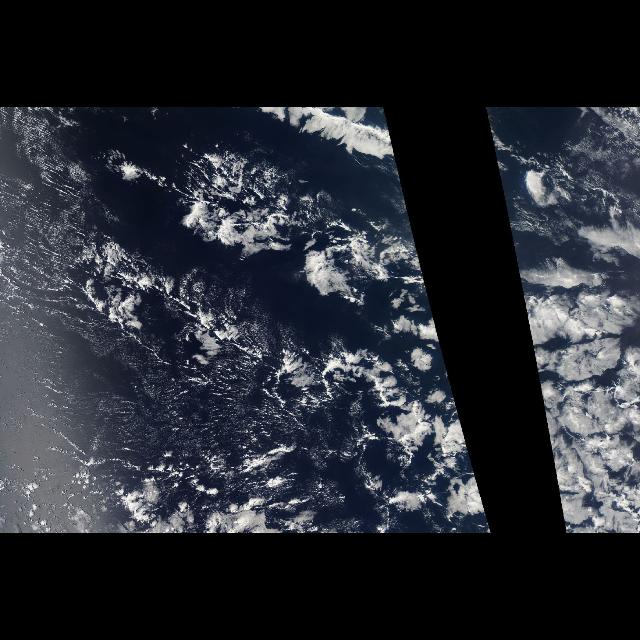Flower: (164, 136, 493, 534), (498, 179, 640, 533)
Sugar: (1, 190, 286, 468)
